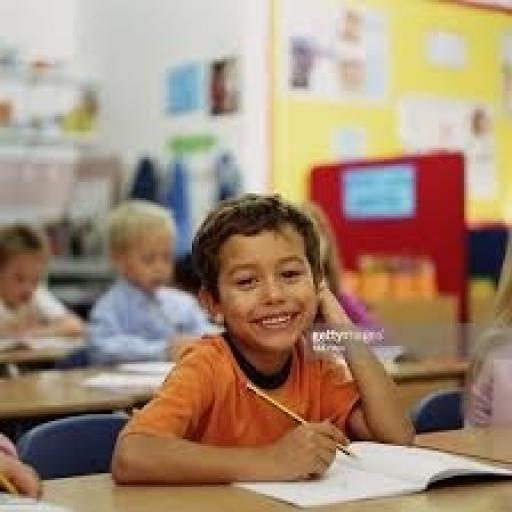sitting: (107, 189, 416, 487), (82, 198, 220, 369), (0, 223, 43, 509), (0, 218, 87, 346)
